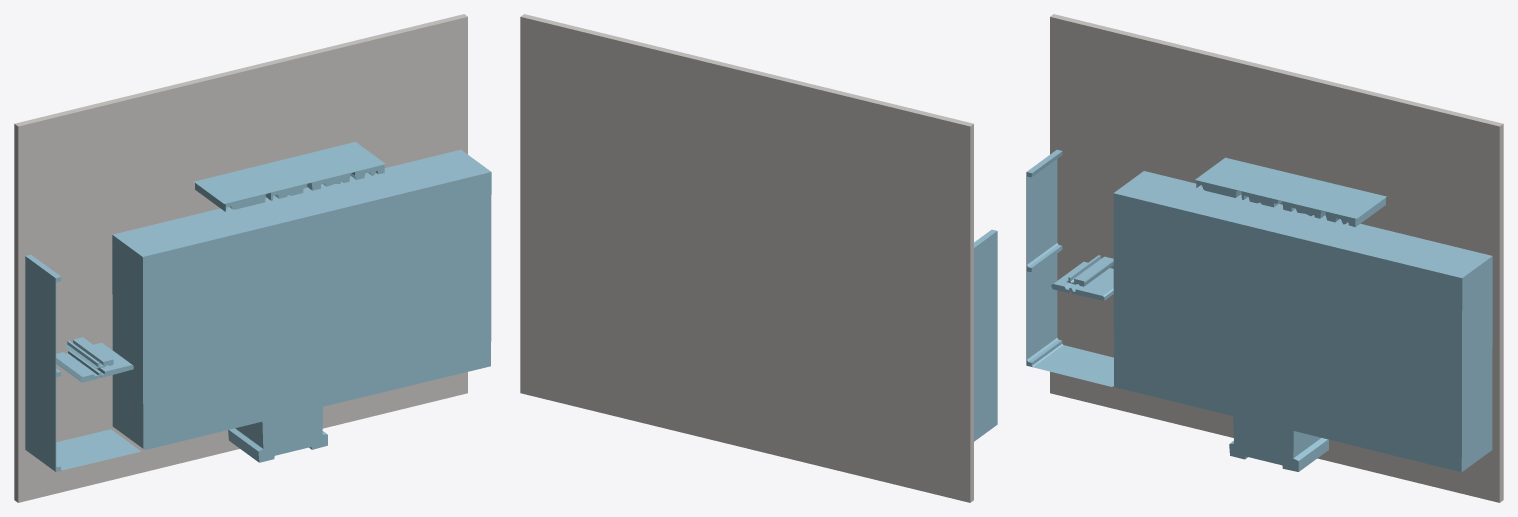
3 views of the same model, side by side, from view 1: azimuth 30°, elevation 25°; view 2: azimuth 150°, elevation 25°; view 3: azimuth 330°, elevation 25° (orthographic).
Parts seen in each view (by area): view 1: world; view 2: world; view 3: world.
Boxes of the visible parts, x1=… form: world: x1=14, y1=14, x2=491, y2=502; world: x1=520, y1=14, x2=997, y2=502; world: x1=1026, y1=14, x2=1503, y2=502.
Size of the model in its own units: 10.23 by 8.18 by 1.35.
